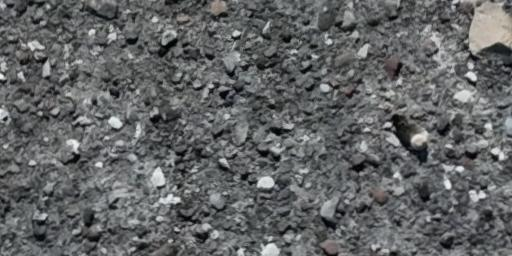skua: (386, 107, 439, 165)
